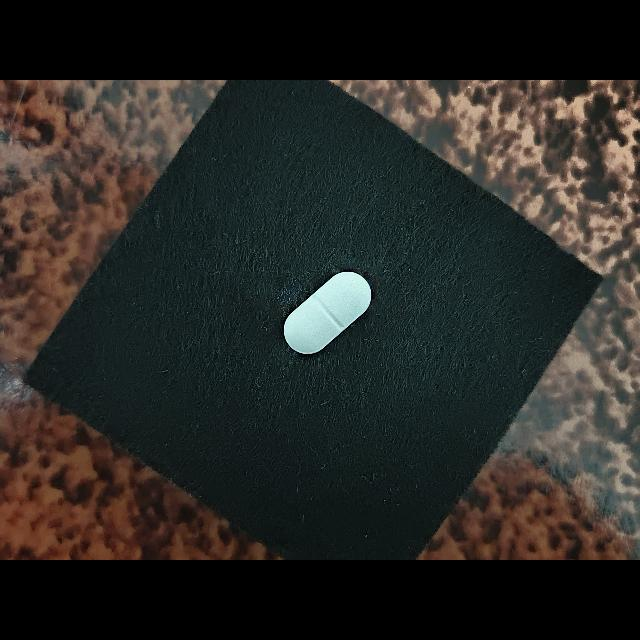Intact Pill: (284, 271, 372, 354)
